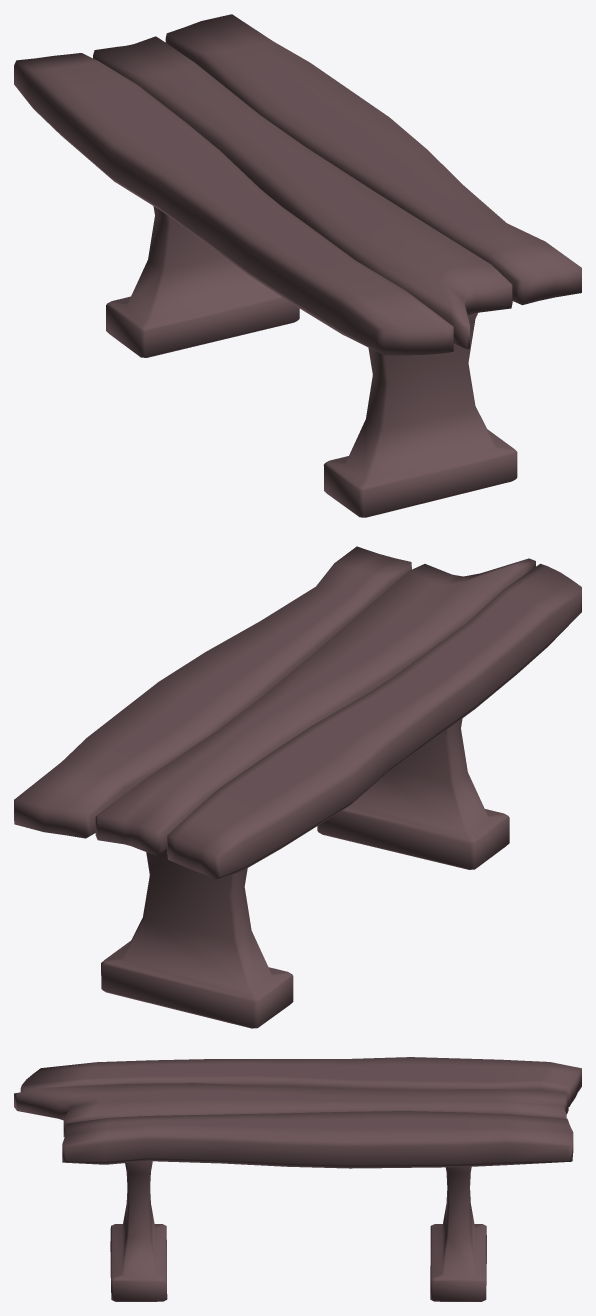
Rendered from Stolik_LP.fbx.
3 views of the same model, one above another, from view 1: azimuth 30°, elevation 25°; view 2: azimuth 150°, elevation 25°; view 3: azimuth 270°, elevation 25° (orthographic). The views are drawn at different scales.
Parts seen in each view (by area): view 1: Stolik_LP; view 2: Stolik_LP; view 3: Stolik_LP.
Boxes of the visible parts, box(x1,y1,x2,y2) form: Stolik_LP: box(14, 14, 581, 517); Stolik_LP: box(14, 546, 581, 1028); Stolik_LP: box(14, 1057, 581, 1301).
Size of the model in its own units: 3.94 by 3.69 by 10.94.
